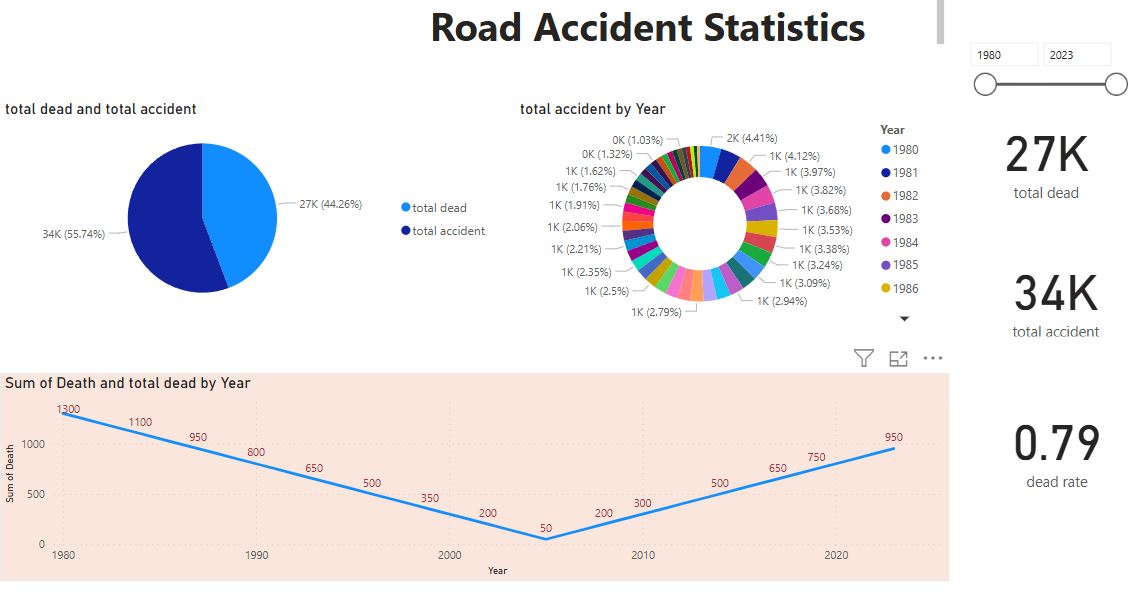

This screenshot's page, from the dashboard's own definition file:
{"tool":"powerbi","page":{"name":"Road Accident Statistics ","canvas":[1280,720],"ordinal":0},"visuals":[{"type":"lineChart","fields":{"Category":["road_accident_statistics.Year"],"Y":["Sum(road_accident_statistics.Death)"]},"box":[12.3,467.9,1041.5,227.8],"z":1},{"type":"card","fields":{"Values":["road_accident_statistics.dead rate"]},"box":[1075.8,485.8,193.5,124.9],"z":2},{"type":"card","fields":{"Values":["road_accident_statistics.total dead"]},"box":[1077.2,177,167.4,107],"z":3},{"type":"card","fields":{"Values":["road_accident_statistics.total accident"]},"box":[1084.1,334.8,174.3,97.4],"z":4},{"type":"donutChart","fields":{"Y":["road_accident_statistics.total accident"],"Category":["road_accident_statistics.Year"]},"box":[577.7,167.4,456.9,253.9],"z":6},{"type":"slicer","fields":{"Values":["road_accident_statistics.Year"]},"box":[1064.8,94.7,193.5,93.3],"z":7},{"type":"textbox","box":[478.9,52.1,575,63.1],"z":8},{"type":"pieChart","fields":{"Y":["road_accident_statistics.total dead","road_accident_statistics.total accident"]},"box":[12.3,167.4,546.1,241.5],"z":9}]}

Visuals, with their boxes on the page's 1280x720 design canvas (x1, y1, x2, y2). These are canvas units, not pixel positions in the 1146x594 screenshot, which may show the page scaled, cropped or inside an application window:
lineChart - road_accident_statistics.Year x Sum(road_accident_statistics.Death): bbox=(12, 468, 1054, 696)
card - road_accident_statistics.dead rate: bbox=(1076, 486, 1269, 611)
card - road_accident_statistics.total dead: bbox=(1077, 177, 1245, 284)
card - road_accident_statistics.total accident: bbox=(1084, 335, 1258, 432)
donutChart - road_accident_statistics.total accident x road_accident_statistics.Year: bbox=(578, 167, 1035, 421)
slicer - road_accident_statistics.Year: bbox=(1065, 95, 1258, 188)
textbox: bbox=(479, 52, 1054, 115)
pieChart - road_accident_statistics.total dead x road_accident_statistics.total accident: bbox=(12, 167, 558, 409)
